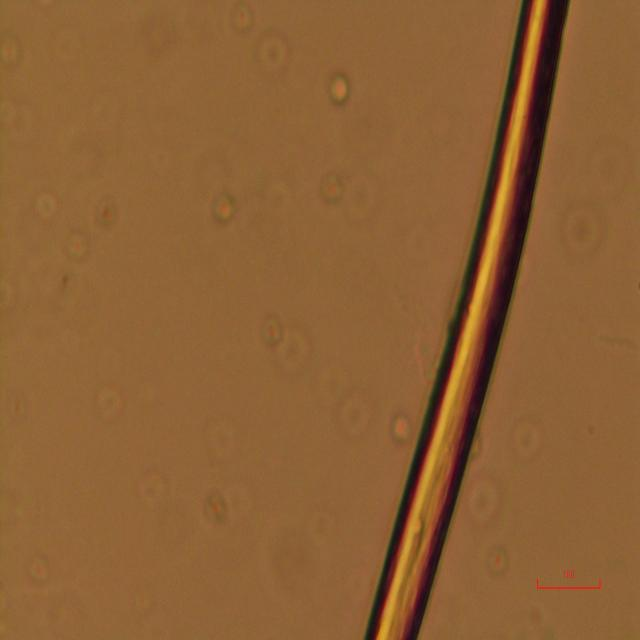Background material: (316, 356, 374, 441), (257, 308, 319, 383), (557, 194, 601, 262), (464, 469, 504, 529), (18, 529, 56, 592), (509, 417, 551, 469), (255, 30, 295, 84), (209, 422, 244, 467), (198, 488, 232, 531), (96, 379, 126, 427), (142, 470, 174, 511), (33, 187, 65, 226), (387, 404, 415, 448), (61, 227, 91, 268), (484, 542, 514, 582), (95, 196, 121, 235), (326, 68, 352, 107), (212, 193, 240, 228), (229, 3, 255, 38), (319, 170, 343, 203)
Microfibre: (361, 0, 568, 638)
